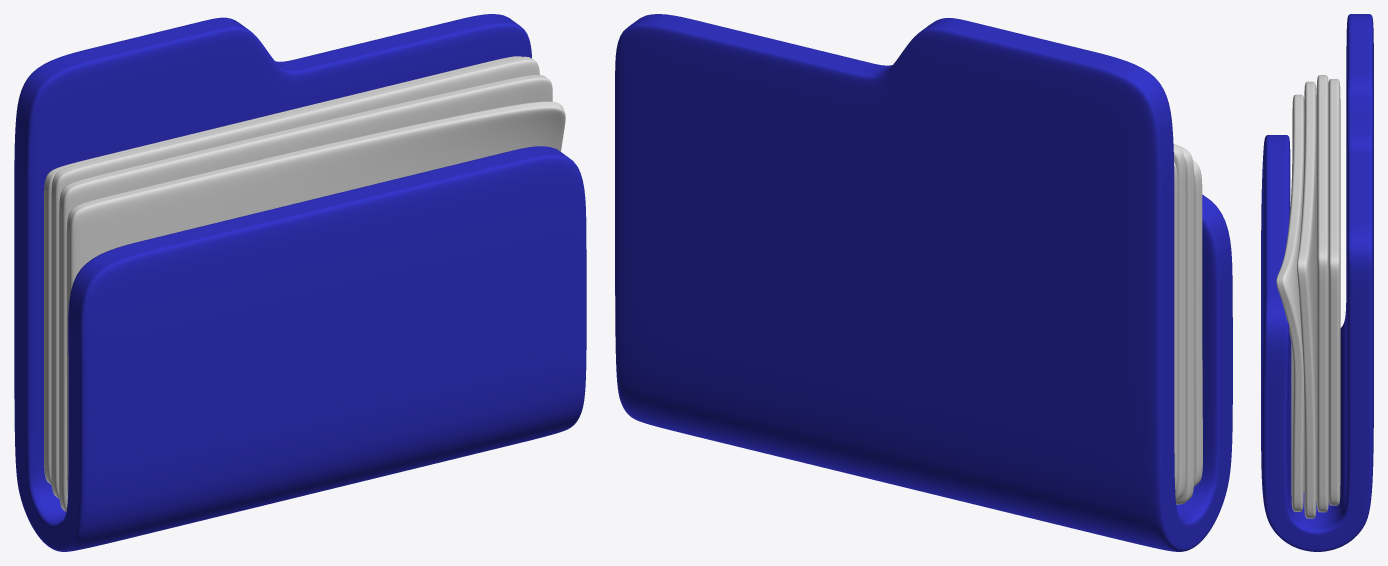
File: folder.fbx
The picture shows the model from 3 angles, left to right: view 1: azimuth 30°, elevation 25°; view 2: azimuth 150°, elevation 25°; view 3: azimuth 270°, elevation 25°; orthographic projection. The views are drawn at different scales.
Visible parts, largest first — view 1: Folder; view 2: Folder; view 3: Folder.
Boxes of the visible parts, <box> form: Folder: <box>14,14,586,551</box>; Folder: <box>615,14,1232,551</box>; Folder: <box>1261,14,1373,551</box>.
Size of the model in its own units: 190 by 165 by 46.69.
